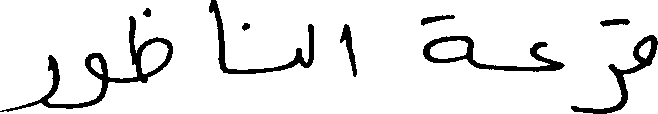ا: (211, 0, 225, 74), (342, 21, 356, 76)
ة: (422, 12, 473, 66)
ر: (0, 52, 59, 112), (571, 59, 626, 112)
ظ: (127, 5, 171, 83)
ع: (529, 39, 560, 72)
ق: (600, 16, 656, 73)
ل: (307, 22, 313, 69)
ن: (242, 21, 301, 74)
و: (56, 50, 106, 109)
